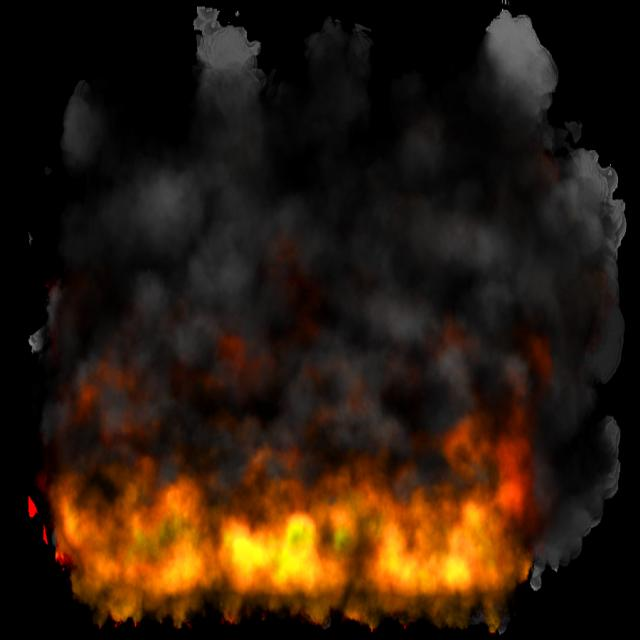fire: (10, 290, 561, 634)
